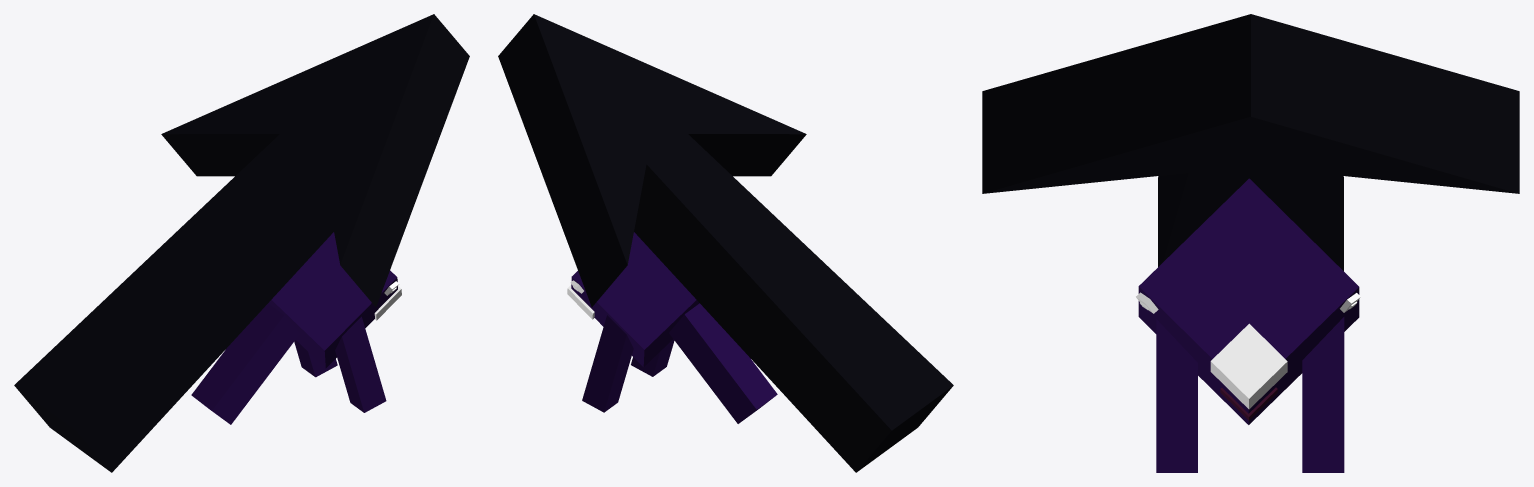
File: Play.fbx
The picture shows the model from 3 angles, left to right: view 1: azimuth 30°, elevation 25°; view 2: azimuth 150°, elevation 25°; view 3: azimuth 270°, elevation 25°; orthographic projection. The views are drawn at different scales.
Visible parts, largest first — view 1: Cube.002; view 2: Cube.002; view 3: Cube.002.
Boxes of the visible parts, <box> form: Cube.002: <box>14,14,469,472</box>; Cube.002: <box>498,14,953,472</box>; Cube.002: <box>982,14,1519,472</box>.
Size of the model in its own units: 607 by 479 by 443.
